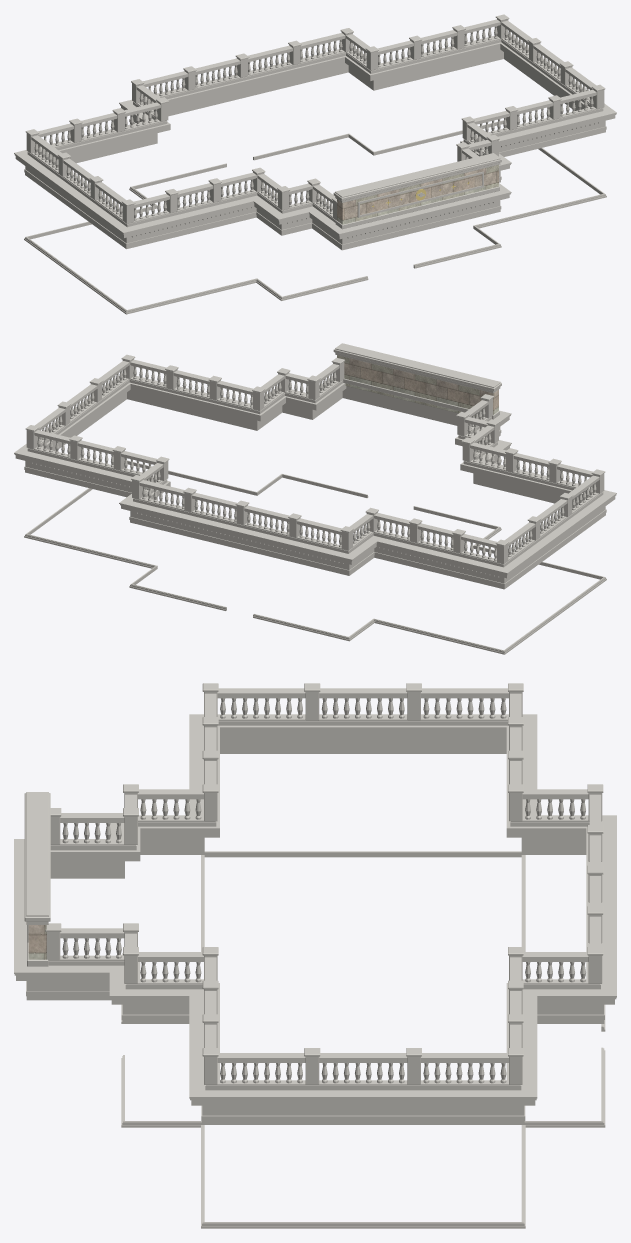
File: trims.glb
The picture shows the model from 3 angles, top to bottom: view 1: azimuth 30°, elevation 25°; view 2: azimuth 150°, elevation 25°; view 3: azimuth 270°, elevation 25°; orthographic projection. The views are drawn at different scales.
Parts seen in each view (by area): view 1: trims_trim, trims_stone; view 2: trims_trim, trims_stone; view 3: trims_trim.
Boxes of the visible parts, left/top/right/bottom form: trims_trim: left=14, top=14, right=616, bottom=314; trims_stone: left=337, top=165, right=498, bottom=224; trims_trim: left=14, top=343, right=616, bottom=654; trims_stone: left=337, top=355, right=498, bottom=417; trims_trim: left=14, top=683, right=616, bottom=1228.
Bounding box in the file's own units: 22.74 × 5.23 × 15.14.
Materials: 3 (1 with a texture image).
